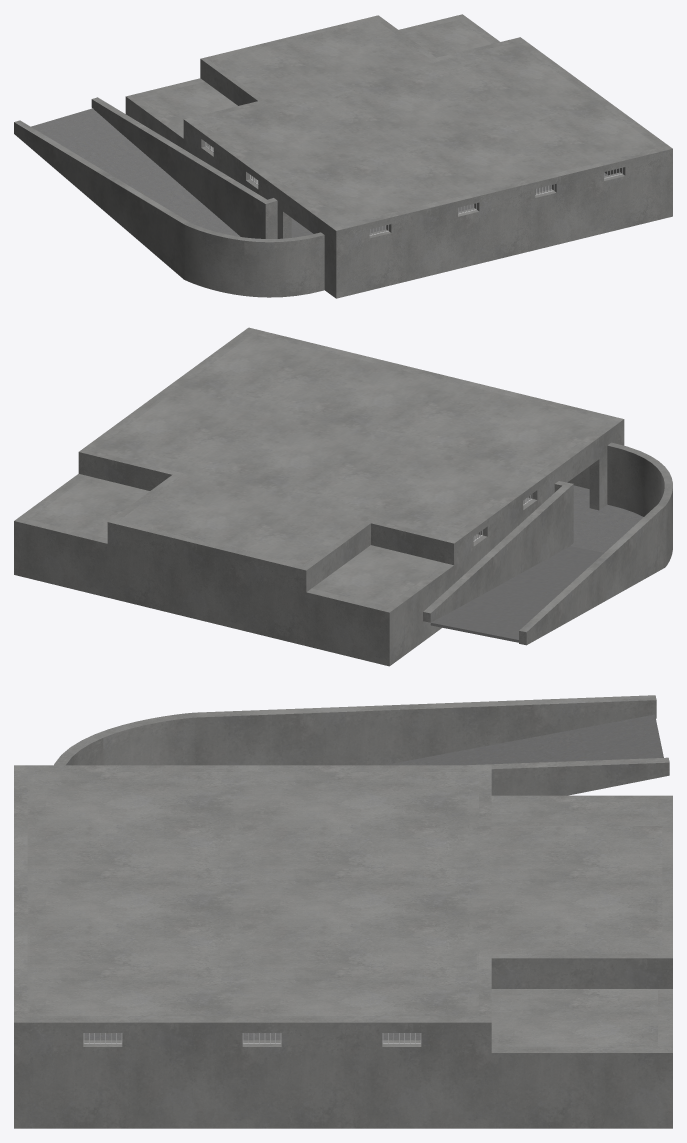
File: Maa-alune_parkla v3.glb
3 renders of one model, top to bottom at view 1: azimuth 30°, elevation 25°; view 2: azimuth 150°, elevation 25°; view 3: azimuth 270°, elevation 25°, orthographic. The views are drawn at different scales.
Parts seen in each view (by area): view 1: Box005, Box001, Line001, Box002, Box003, Box004; view 2: Box005, Box001, Line001, Box003, Box002, Tube001, Box004; view 3: Box005, Box001, Line001, Box002, Box003, Box004.
Part boxes in pixels (bbox=[...]): Box005: bbox=[139, 19, 659, 225]; Box001: bbox=[125, 14, 672, 298]; Line001: bbox=[14, 120, 324, 297]; Box002: bbox=[31, 108, 240, 236]; Box003: bbox=[91, 97, 277, 238]; Box004: bbox=[254, 173, 606, 237]; Box005: bbox=[29, 334, 609, 606]; Box001: bbox=[14, 327, 624, 666]; Line001: bbox=[519, 442, 672, 645]; Box003: bbox=[423, 481, 573, 622]; Box002: bbox=[430, 546, 603, 642]; Tube001: bbox=[570, 504, 643, 552]; Box004: bbox=[475, 485, 598, 535]; Box005: bbox=[27, 772, 662, 1046]; Box001: bbox=[14, 765, 672, 1128]; Line001: bbox=[54, 695, 656, 765]; Box002: bbox=[384, 714, 663, 765]; Box003: bbox=[467, 757, 669, 795]; Box004: bbox=[83, 1033, 420, 1040].
Bounding box in the file's own units: 21.03 × 3 × 16.88.
3 materials, 2 textured.
